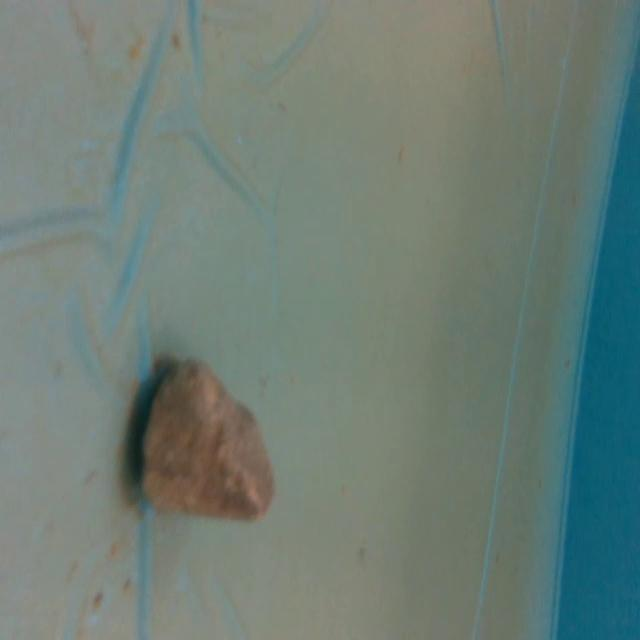rock: (131, 348, 282, 534)
